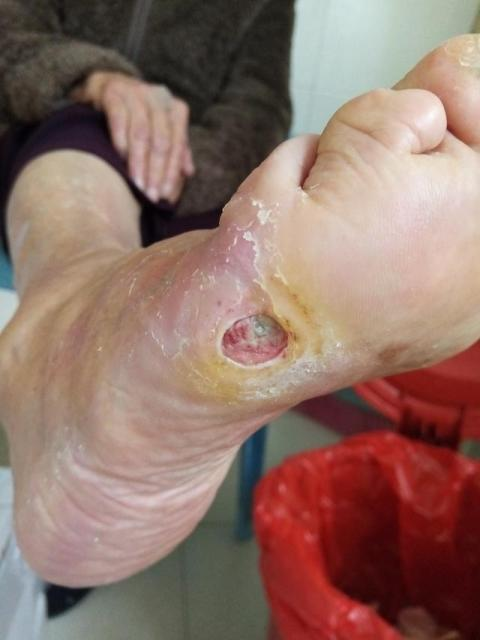wound: (218, 307, 299, 370)
